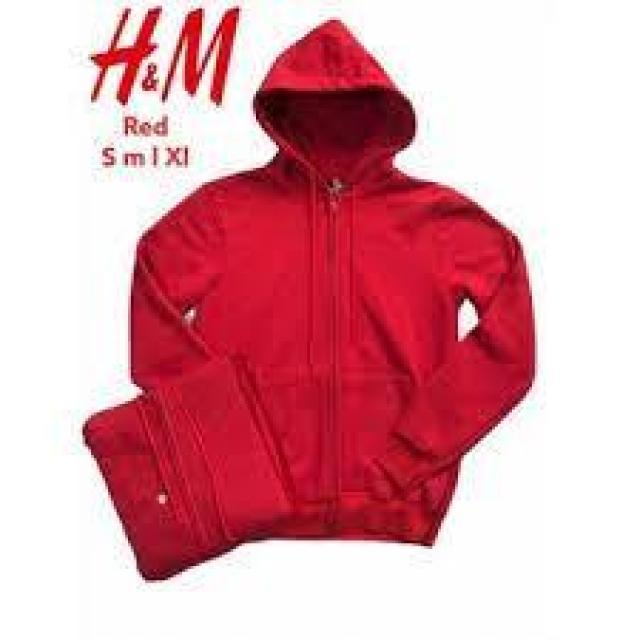sweater: (130, 17, 534, 518)
